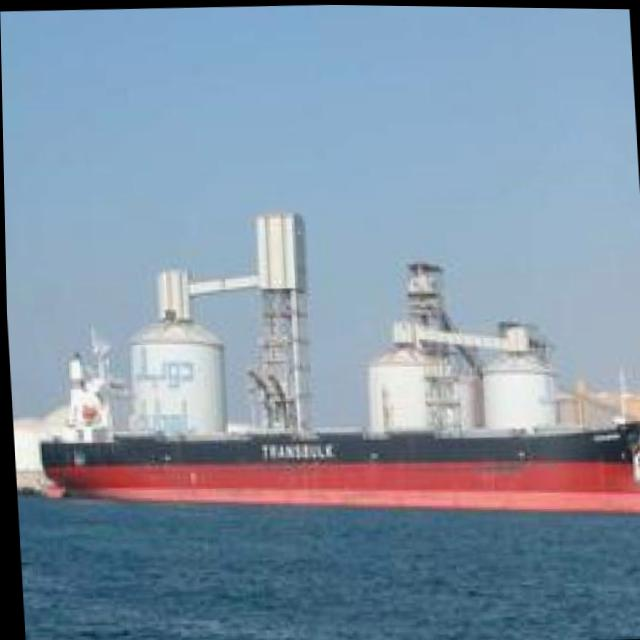ship2: (36, 325, 640, 514)
